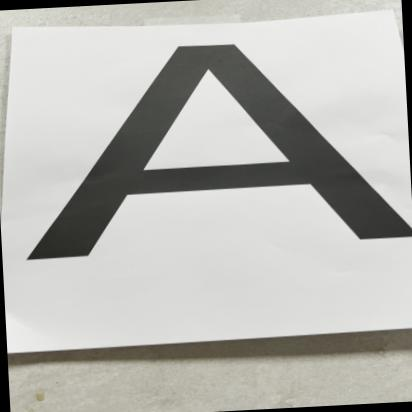seat: (25, 24, 412, 318)
